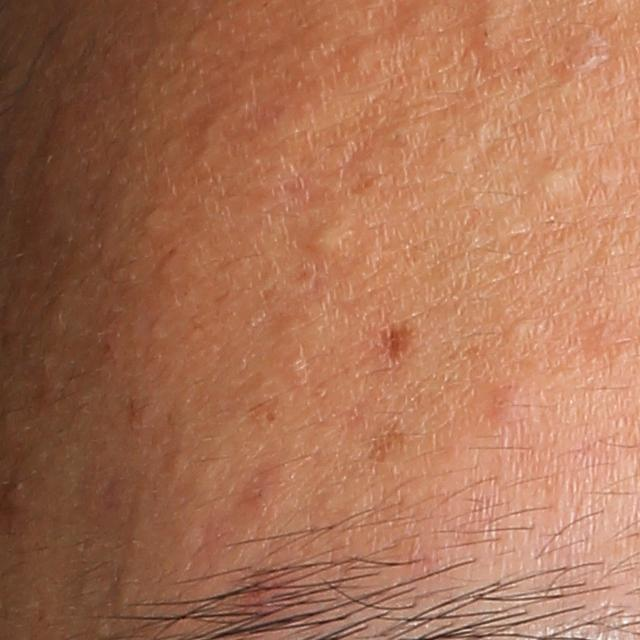comedo: (558, 37, 614, 80), (301, 224, 345, 264), (344, 38, 377, 84), (535, 165, 571, 198), (503, 312, 536, 340)
